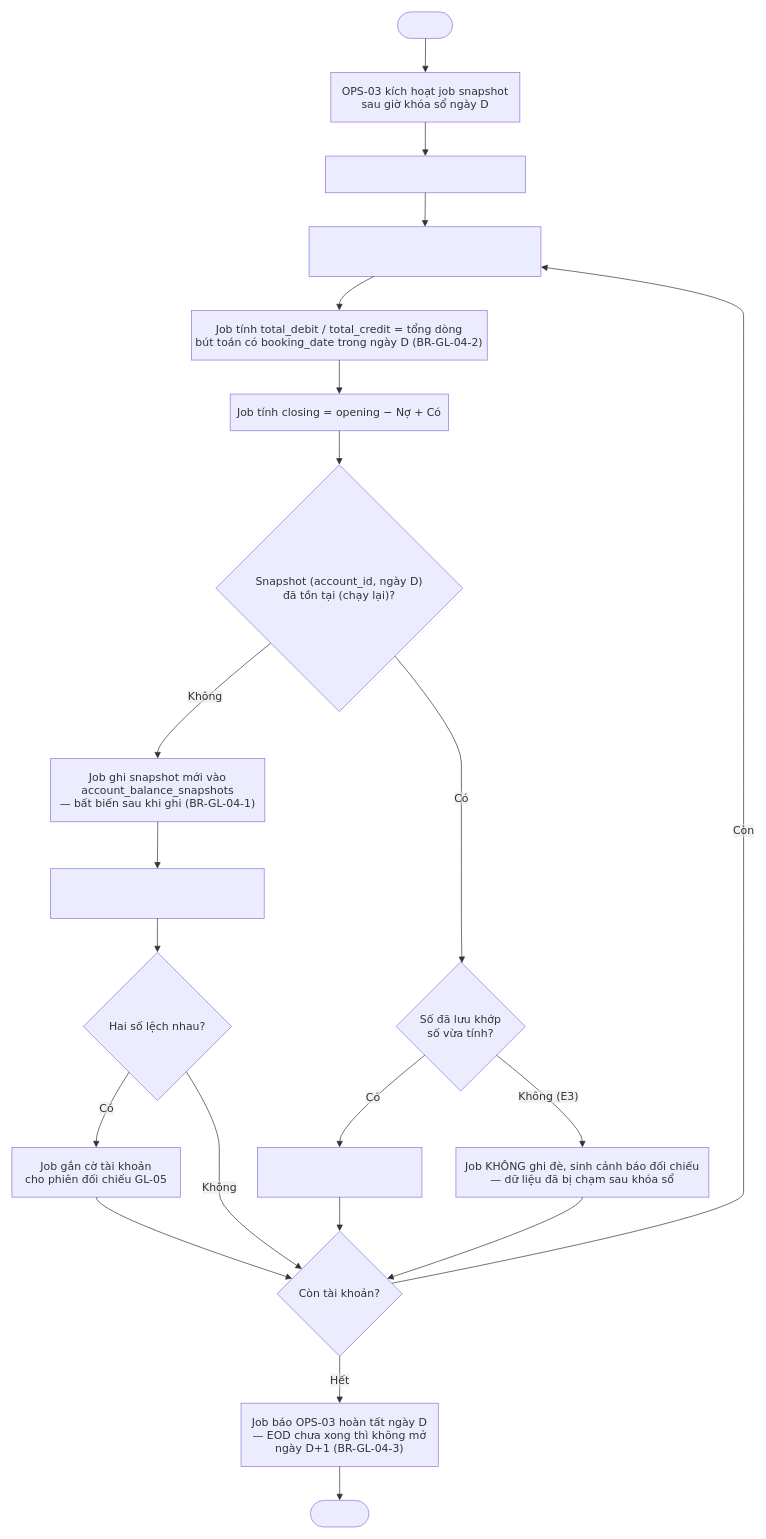
This 766x1539 diagram has some shape labels left out. The centre of each missing label's shape, as x and y in pixels:
Bắt đầu: point 425,24
Job bỏ qua tài khoản này (idempotent): point 339,1172
Job lấy danh sách MỌI tài khoản: point 425,174
Job so closing với accounts.ledger_balance hiện hành: point 157,893
Kết thúc: point 339,1513
Với từng tài khoản: opening = closing của snapshot D-1 (hoặc 0 nếu chưa có): point 424,251
